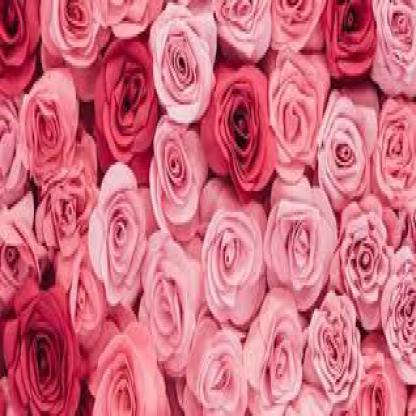Rose-Mawar: (1, 1, 416, 415)
